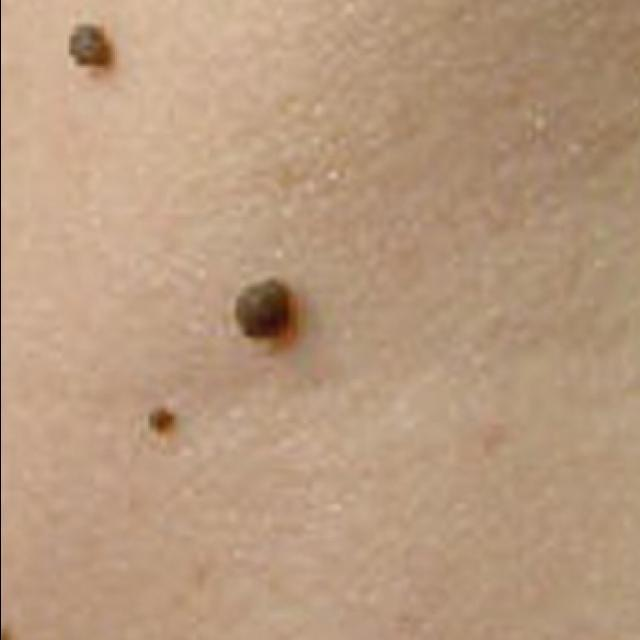wart: (234, 272, 296, 348), (64, 18, 120, 78)
